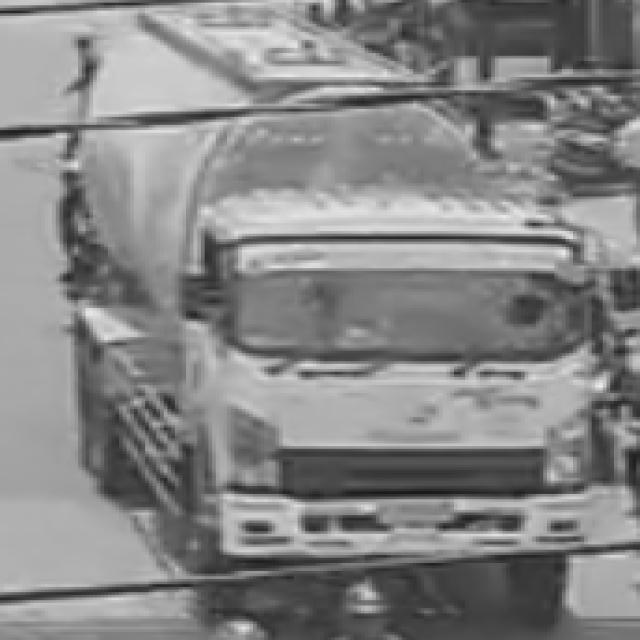Truck: (49, 18, 615, 614)
